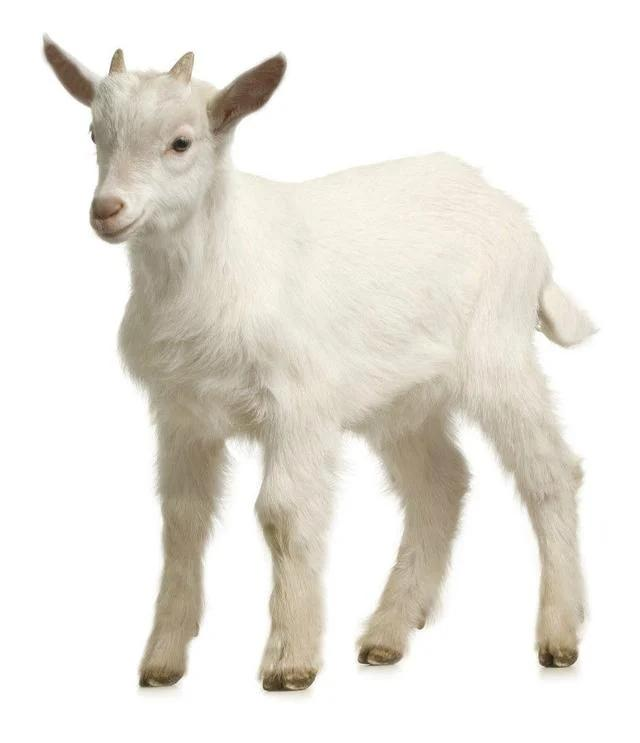animal: (80, 33, 580, 707)
